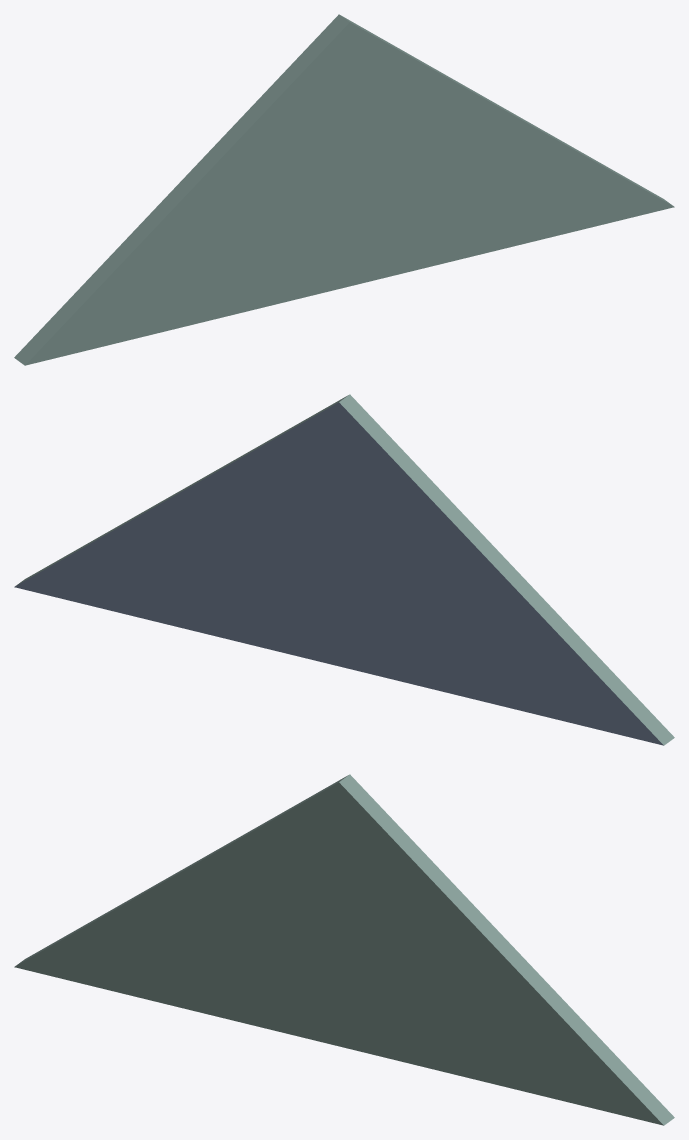
The model's file is Wall3_C5_16.fbx.
The picture shows the model from 3 angles, top to bottom: view 1: azimuth 30°, elevation 25°; view 2: azimuth 150°, elevation 25°; view 3: azimuth 330°, elevation 25°; orthographic projection.
Visible parts, largest first — view 1: Wall3_C5_16; view 2: Wall3_C5_16; view 3: Wall3_C5_16.
Boxes of the visible parts, x1,y1,x2,y2 form: Wall3_C5_16: [14, 14, 674, 365]; Wall3_C5_16: [14, 394, 674, 745]; Wall3_C5_16: [14, 774, 674, 1125].
Bounding box in the file's own units: 515 × 200 × 15.
